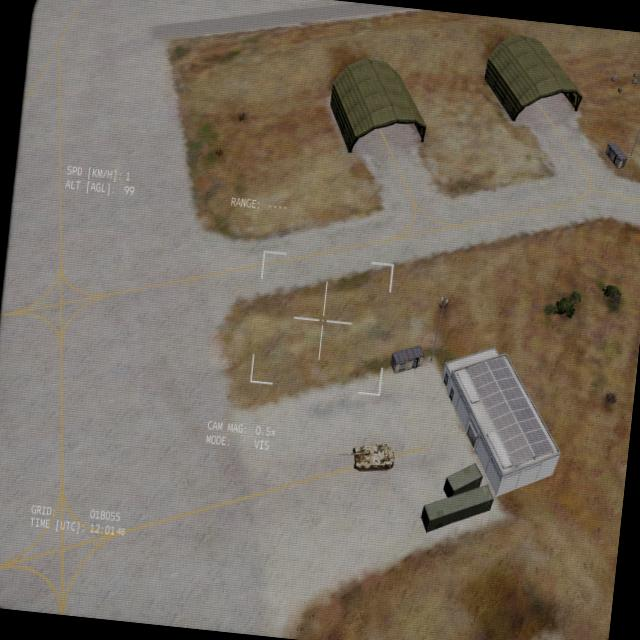tank: (334, 437, 396, 475)
